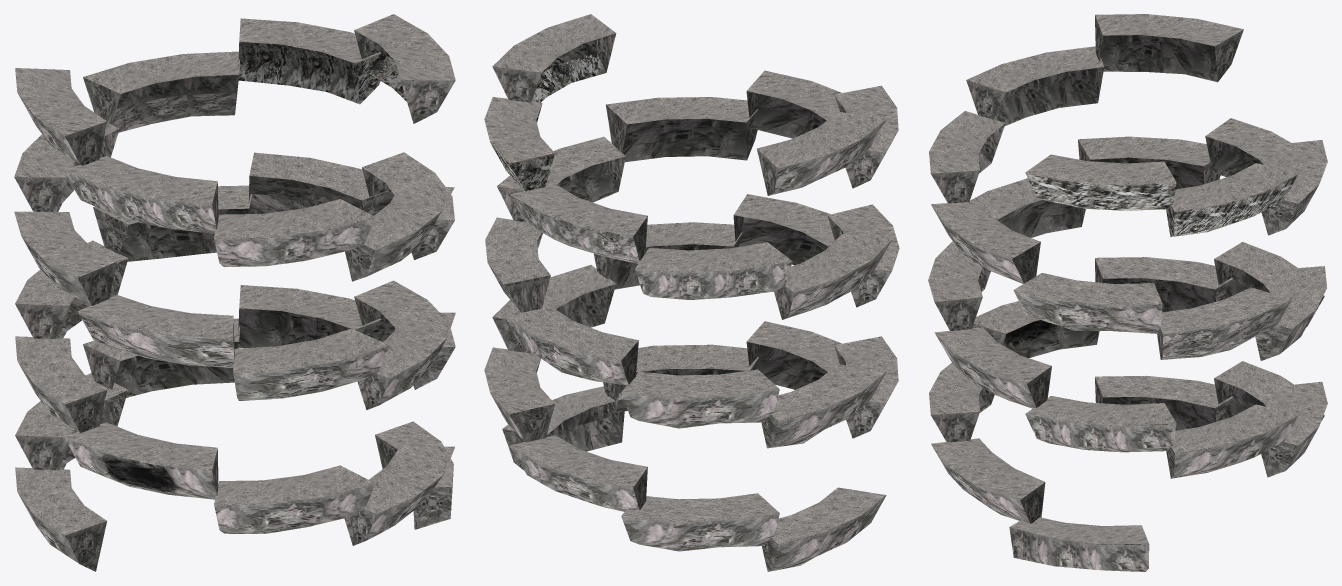
File: Huan09.obj
3 views of the same model, side by side, from view 1: azimuth 30°, elevation 25°; view 2: azimuth 150°, elevation 25°; view 3: azimuth 270°, elevation 25° (orthographic). The views are drawn at different scales.
Visible parts, largest first — view 1: Huan09; view 2: Huan09; view 3: Huan09.
Boxes of the visible parts, left/top/right/bottom form: Huan09: left=14, top=14, right=455, bottom=571; Huan09: left=484, top=14, right=899, bottom=571; Huan09: left=928, top=14, right=1327, bottom=571.
Size of the model in its own units: 600 by 674 by 600.
